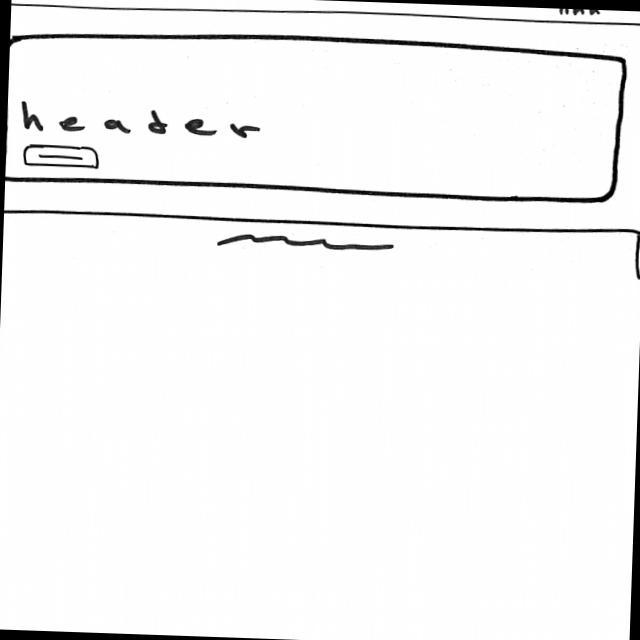container: (5, 24, 628, 204), (11, 0, 640, 29)
icon-button: (18, 144, 102, 170)
label: (16, 99, 262, 142), (550, 8, 605, 16)
text: (215, 232, 398, 254)
